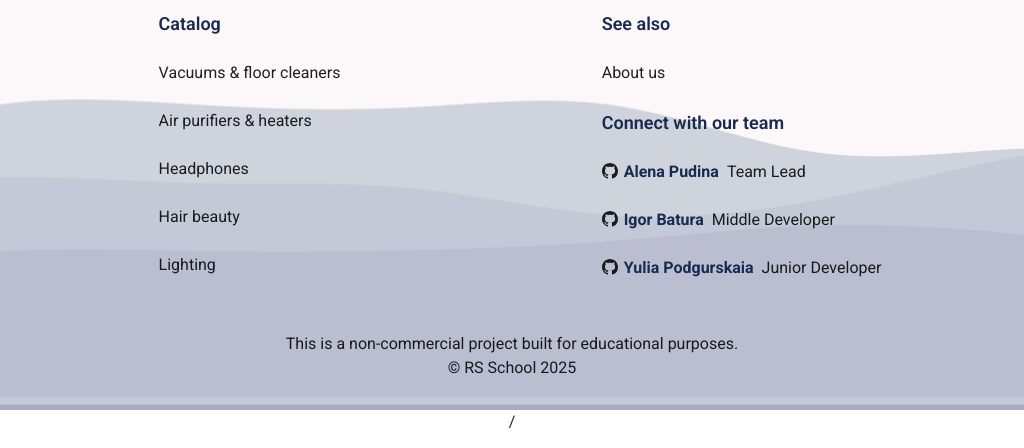
Scenario: Footer Component › navigates to /catalog/vacuums when Vacuums link is clicked
Click the link "Vacuums & floor cleaners": click(250, 73) [159, 61, 340, 85]
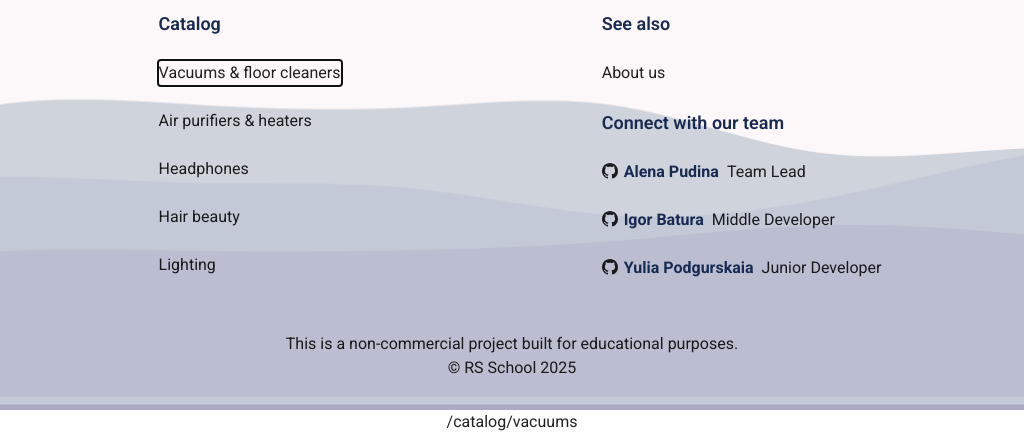
Result: the text with test id "location" reads "/catalog/vacuums" at [447, 412, 578, 431]
